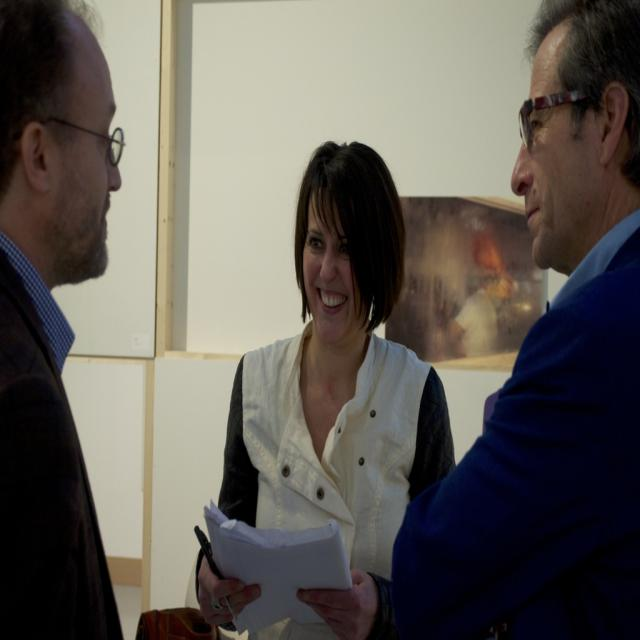Glasses: (510, 92, 589, 153), (40, 126, 127, 165)
